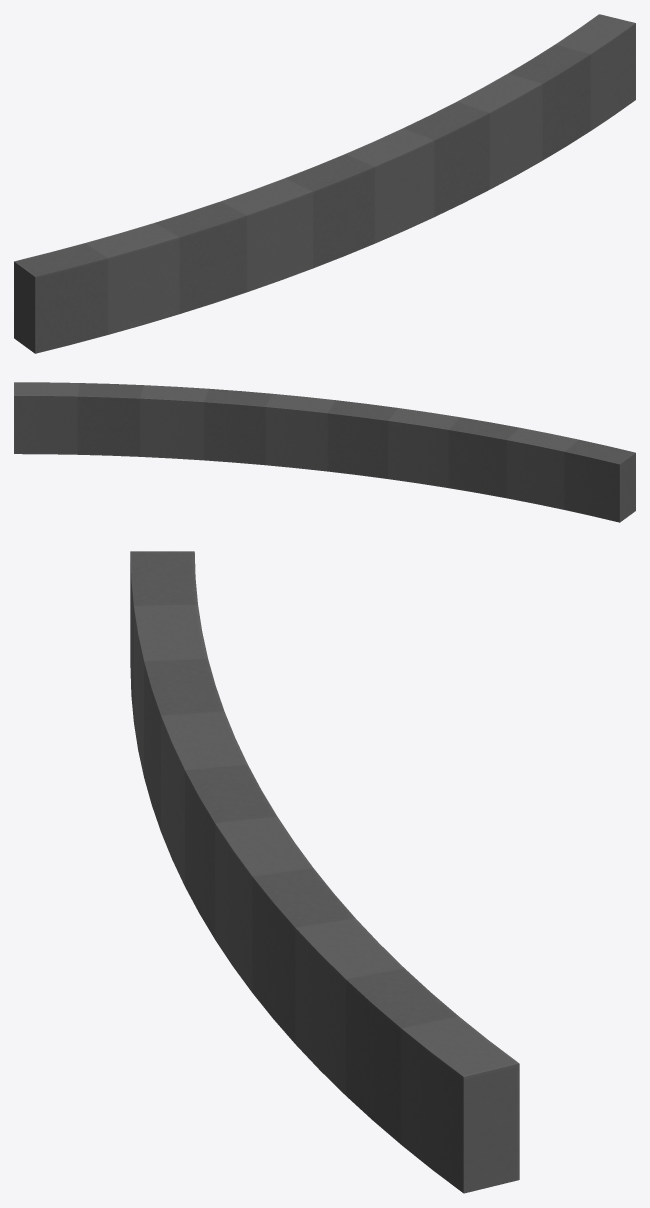
File: Wall_L_30.glb
The picture shows the model from 3 angles, top to bottom: view 1: azimuth 30°, elevation 25°; view 2: azimuth 150°, elevation 25°; view 3: azimuth 270°, elevation 25°; orthographic projection. The views are drawn at different scales.
Parts seen in each view (by area): view 1: Wall_L_30; view 2: Wall_L_30; view 3: Wall_L_30.
Boxes of the visible parts, box(x1,y1,x2,y2) form: Wall_L_30: box(14, 14, 635, 353); Wall_L_30: box(14, 382, 635, 522); Wall_L_30: box(130, 551, 519, 1193).
Bounding box in the file's own units: 9.67 × 1 × 3.03.
1 material, 1 textured.
